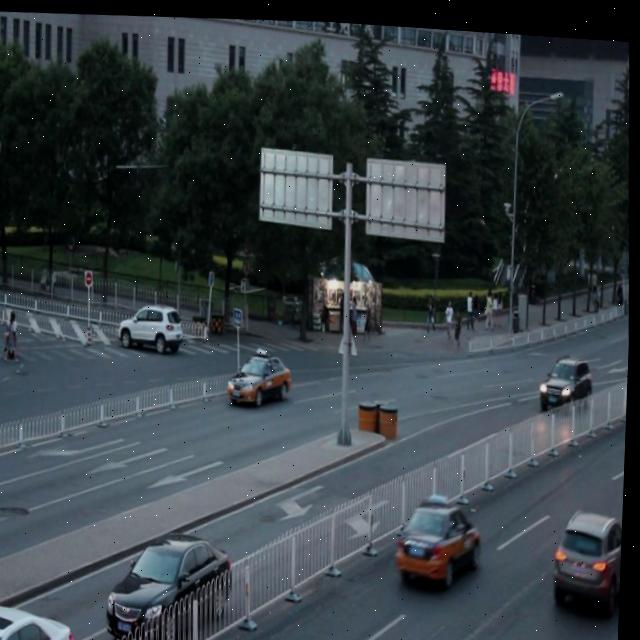car: (106, 527, 238, 640), (396, 485, 486, 578), (551, 496, 626, 601), (230, 341, 294, 402), (119, 299, 188, 354), (0, 598, 80, 640), (538, 344, 594, 401)
